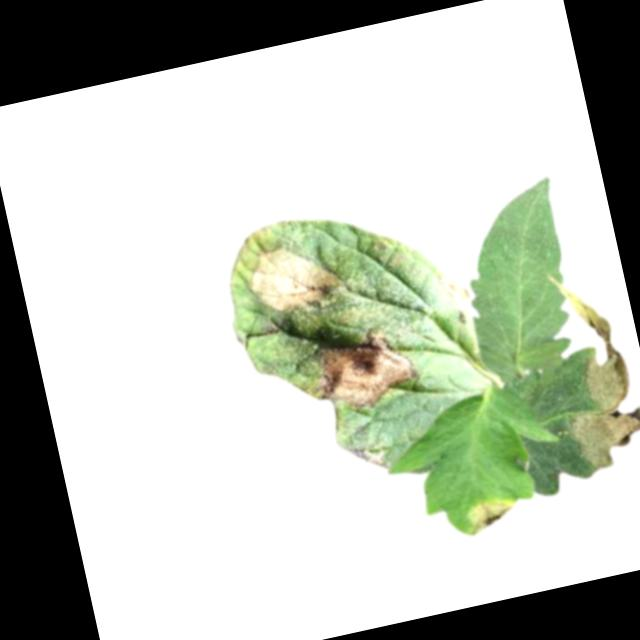Late_blight: (528, 262, 640, 478), (301, 319, 420, 415), (238, 230, 348, 326), (458, 493, 521, 538), (438, 265, 474, 320), (344, 437, 391, 478)
